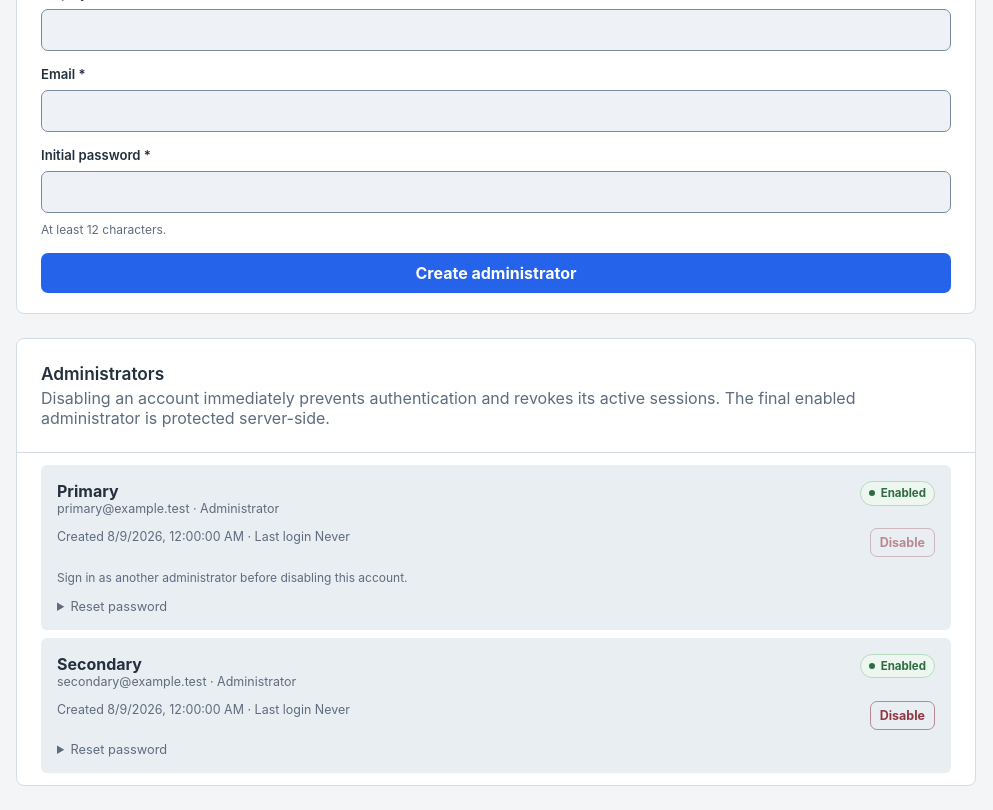
Test: UsersPage › shows safe account state, prevents self-disable, and disables another administrator
(page scrolled)
expect the text "secondary@example.test · Administrator" is shown: met, box [57,674,296,689]
expect the 1st button "Disable" is disabled: met, box [870,528,935,557]
Click the 2nd button "Disable" at (902, 715), box [870,701,935,730]
(page scrolled)
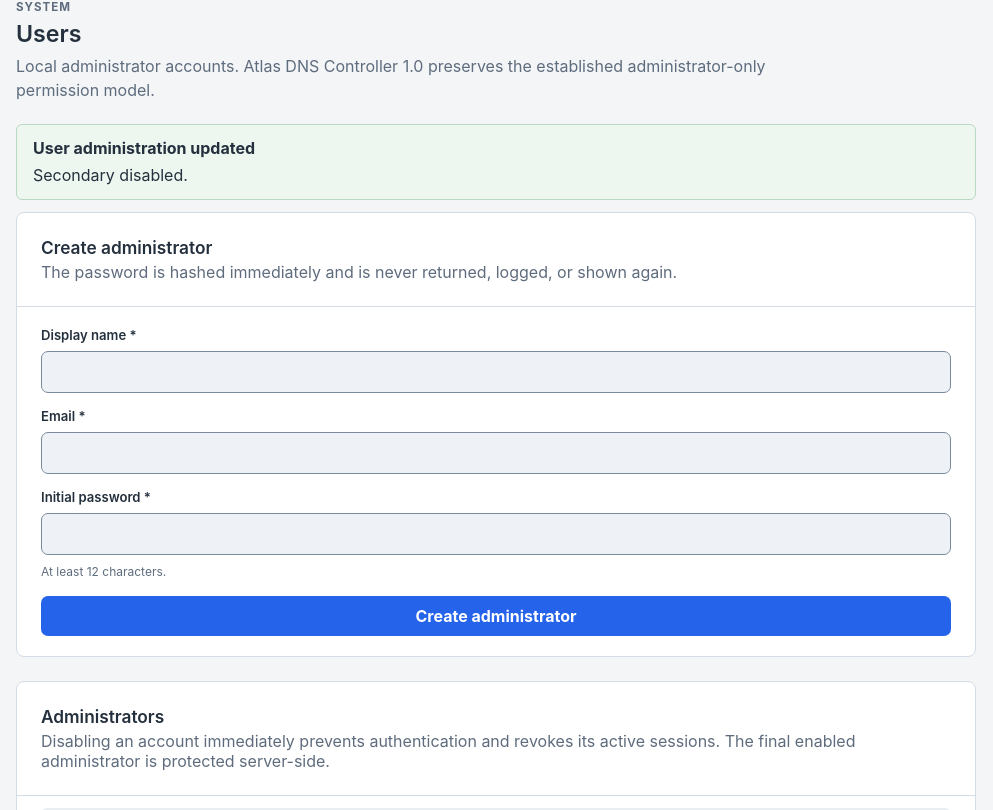
expect the text "Secondary disabled." is shown: met, box [33,165,188,185]
